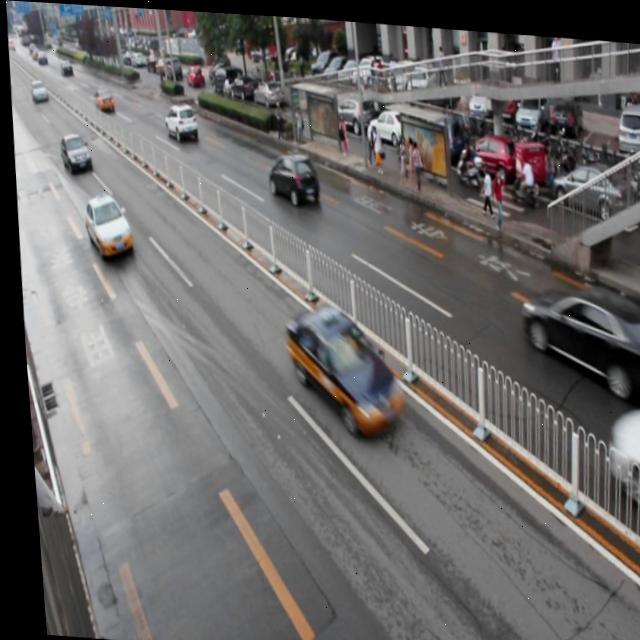car: (276, 296, 400, 432), (511, 269, 640, 399), (597, 393, 640, 515), (79, 190, 130, 257), (265, 145, 318, 205), (160, 97, 199, 141), (58, 130, 93, 176)
